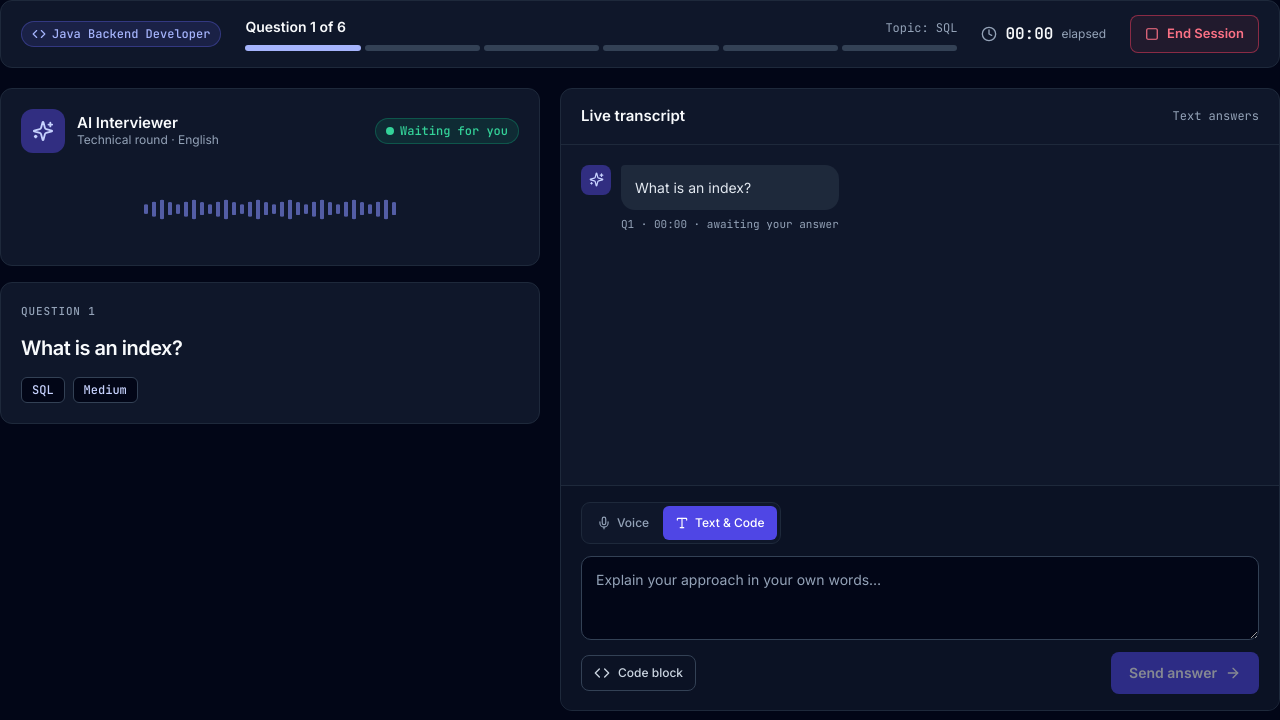
Test: a follow-up is labelled and keeps the question number
Step 1. Type "Fast reads." into the text box named "Type your answer" → (920, 598), box x1=581 y1=556 x2=1259 y2=640
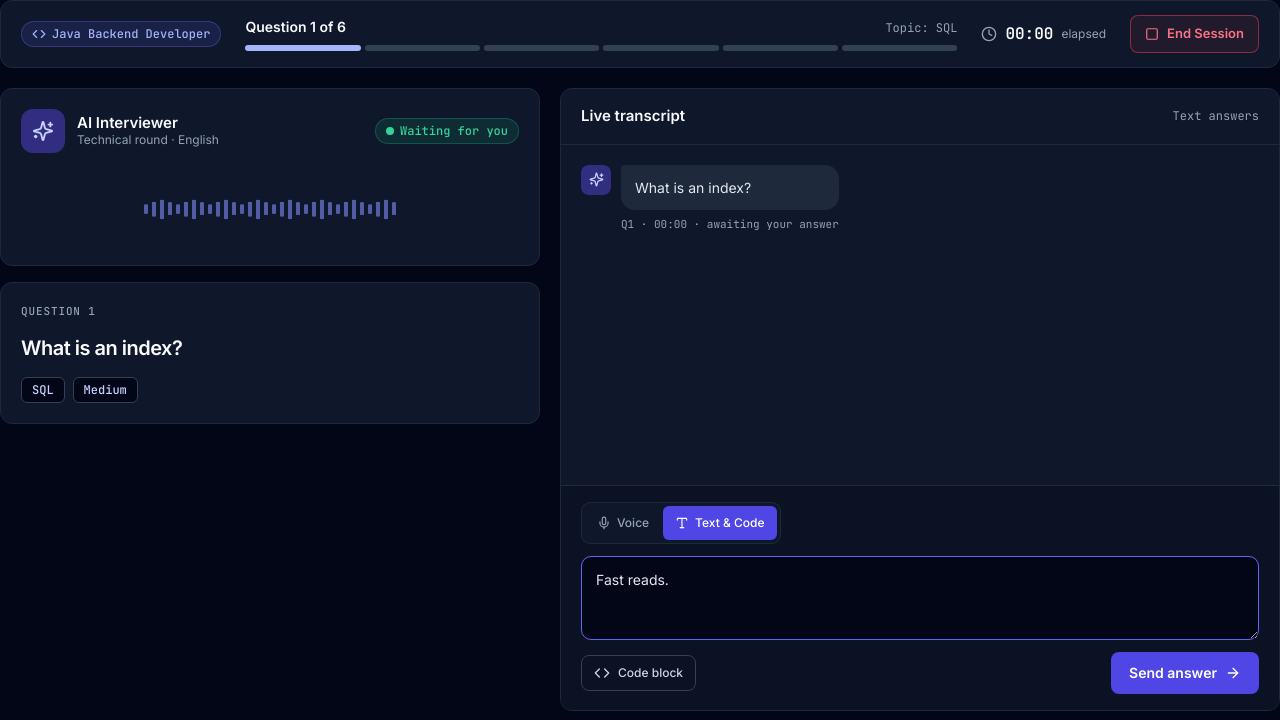
Step 2. Click the button "Send answer" → (1185, 672), box x1=1111 y1=652 x2=1259 y2=694
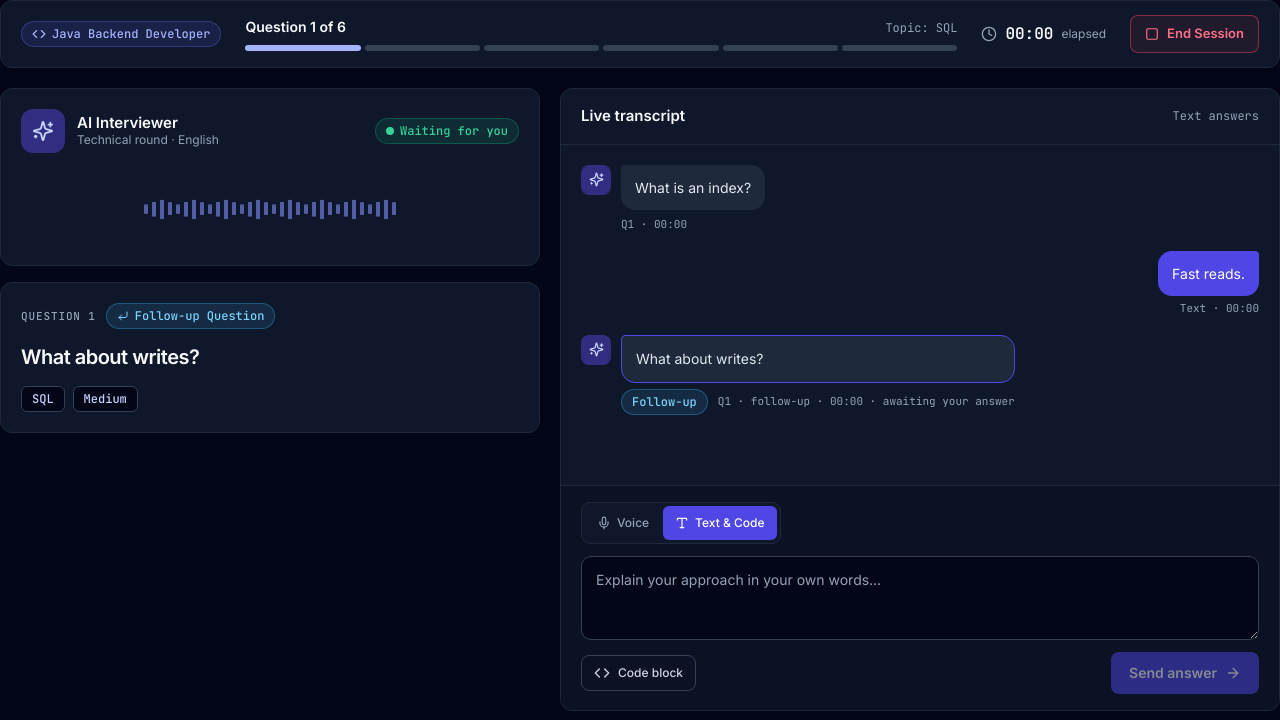
Check: the text "Question 1 of 6" is shown, box x1=245 y1=17 x2=346 y2=37
Check: the text "Follow-up Question" is shown, box x1=106 y1=303 x2=275 y2=329
Check: the text "Follow-up" is shown, box x1=621 y1=389 x2=708 y2=415
